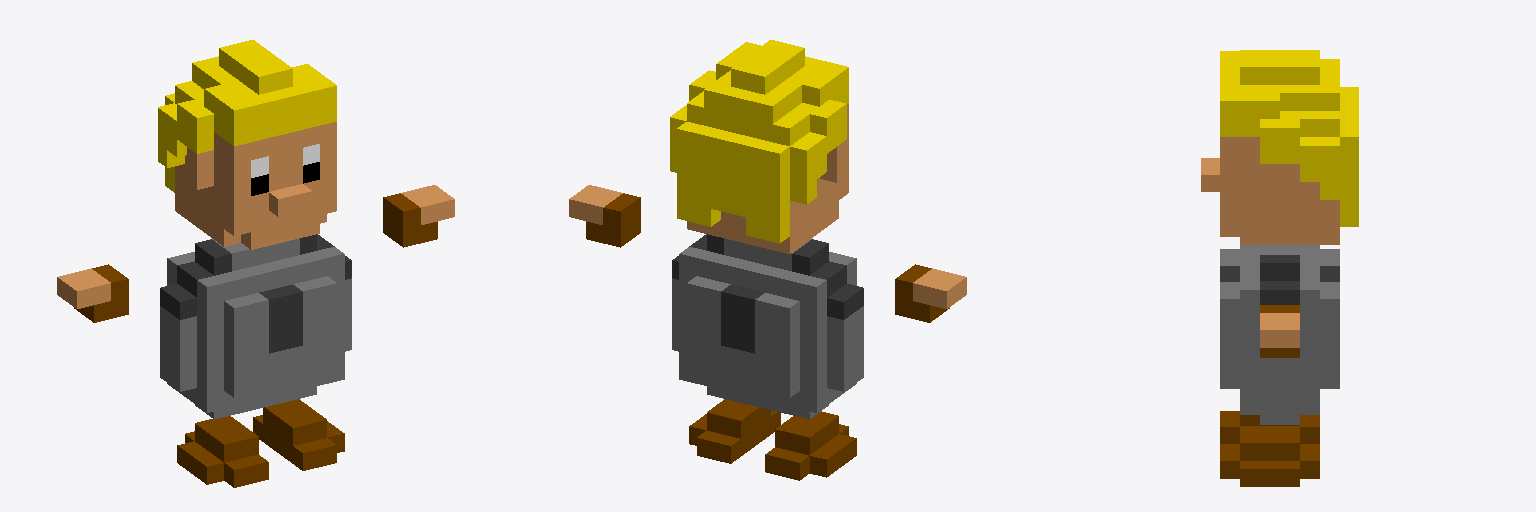
3 renders of one model, left to right at view 1: azimuth 30°, elevation 25°; view 2: azimuth 150°, elevation 25°; view 3: azimuth 270°, elevation 25°, orthographic.
Parts seen in each view (by area): view 1: object 1; view 2: object 1; view 3: object 1.
Part boxes in pixels (x1,y1,x2,y2): object 1: (57,40,454,487); object 1: (569,40,966,480); object 1: (1201,50,1358,486).
Bounding box in the file's own units: 2.2 × 2.2 × 0.8.
1 materials, 1 textured.